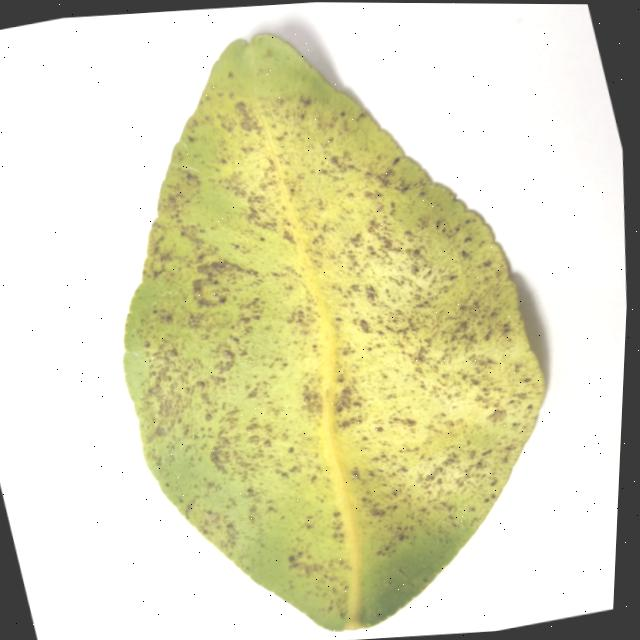melanose: (123, 34, 544, 631)
